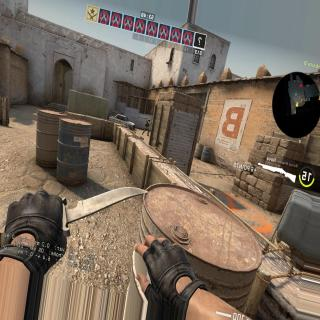CT-Body: (142, 118, 150, 134)
CT-Head: (148, 118, 150, 122)
